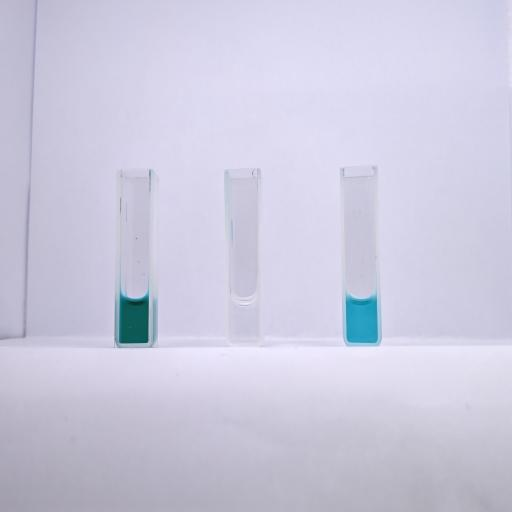cuvette: (339, 163, 383, 348), (113, 168, 155, 348), (223, 168, 265, 348)
liquid: (346, 297, 378, 343), (120, 296, 148, 343), (230, 296, 258, 342)
